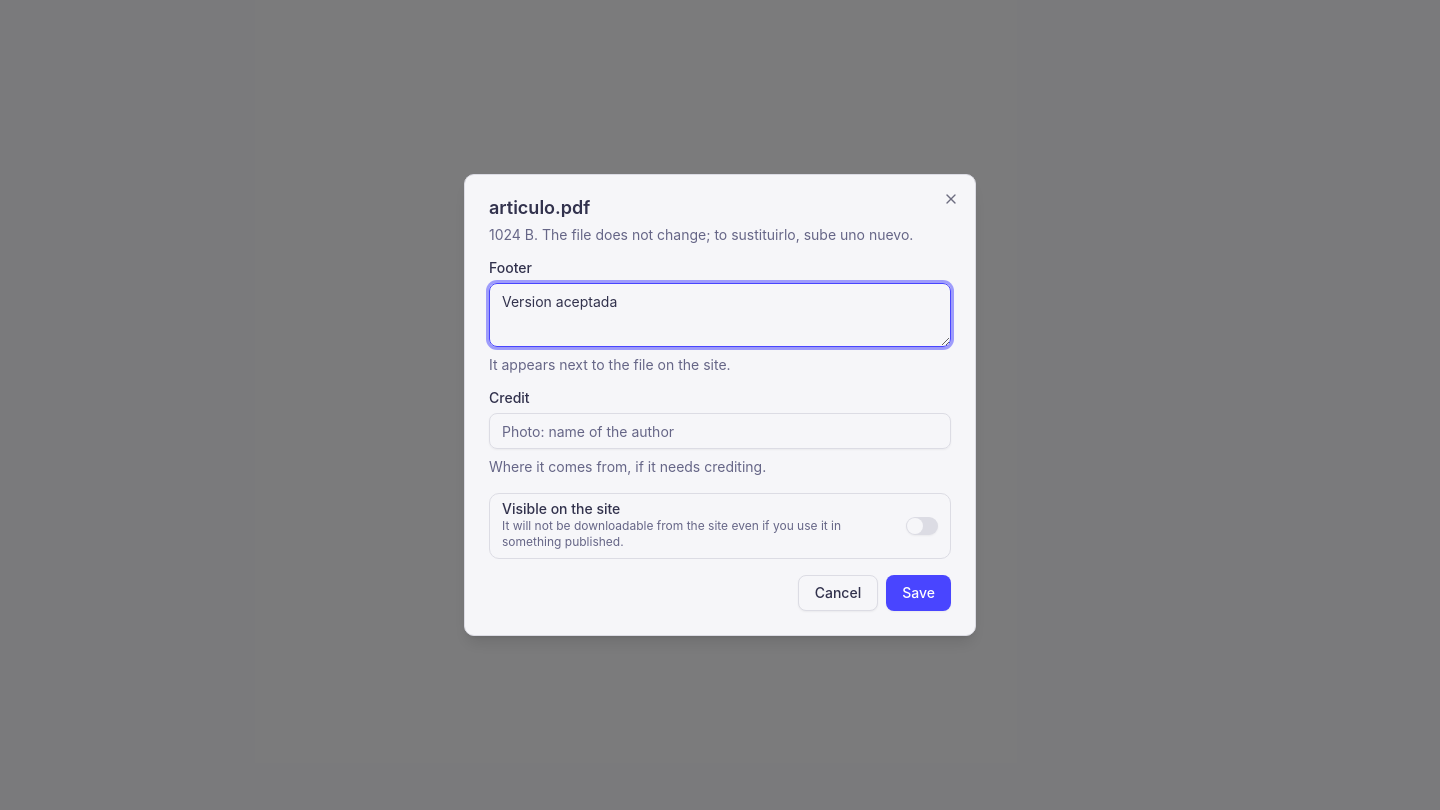
Test: al guardar › el interruptor de visibilidad dice que consecuencia tiene
Expected: the text "will not be downloadable from the site" is shown, [502, 518, 841, 549]
Click the switch named "Visible on the site" at (922, 526), box [906, 517, 938, 535]
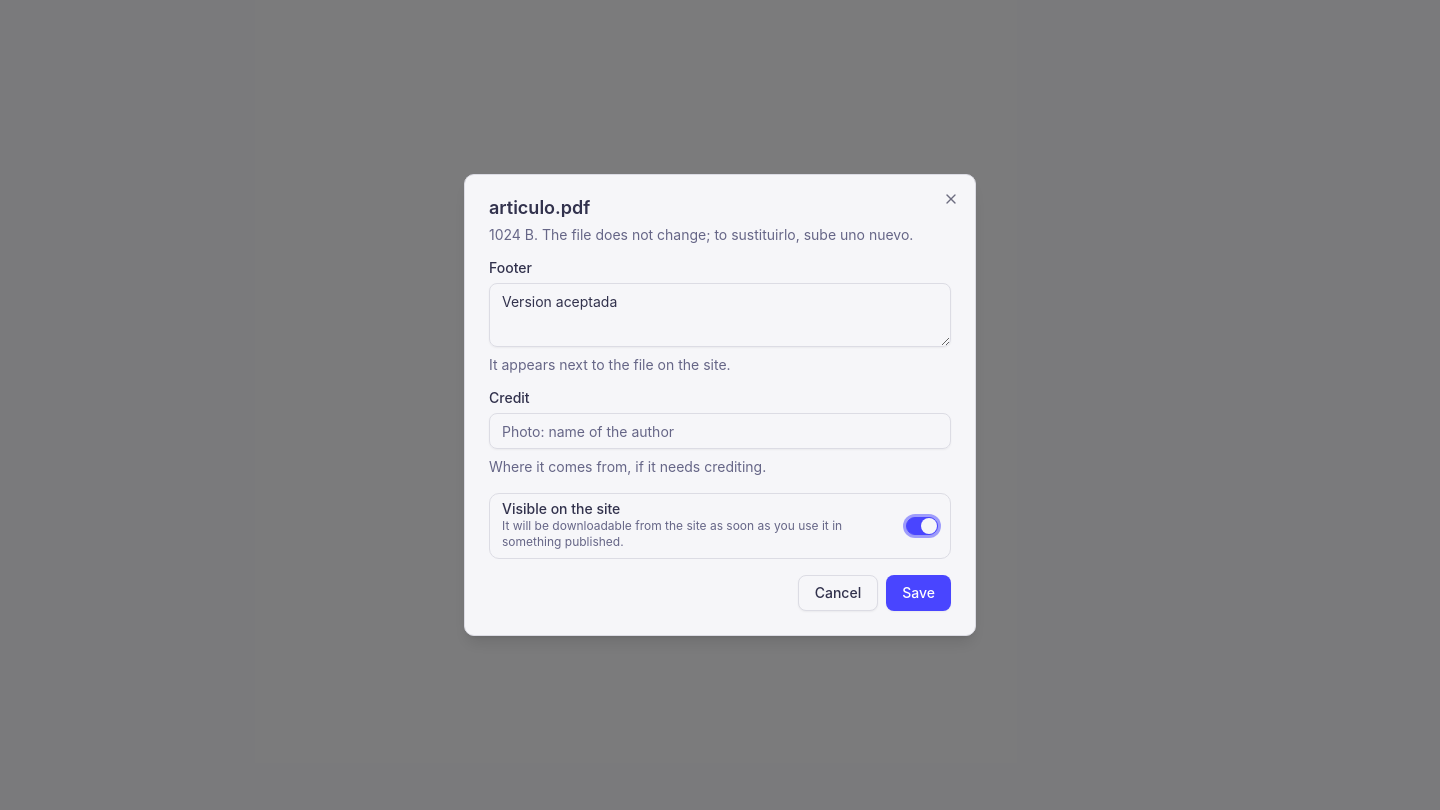
Now the text "as soon as you use it in something published" is shown, box [502, 518, 842, 549]
